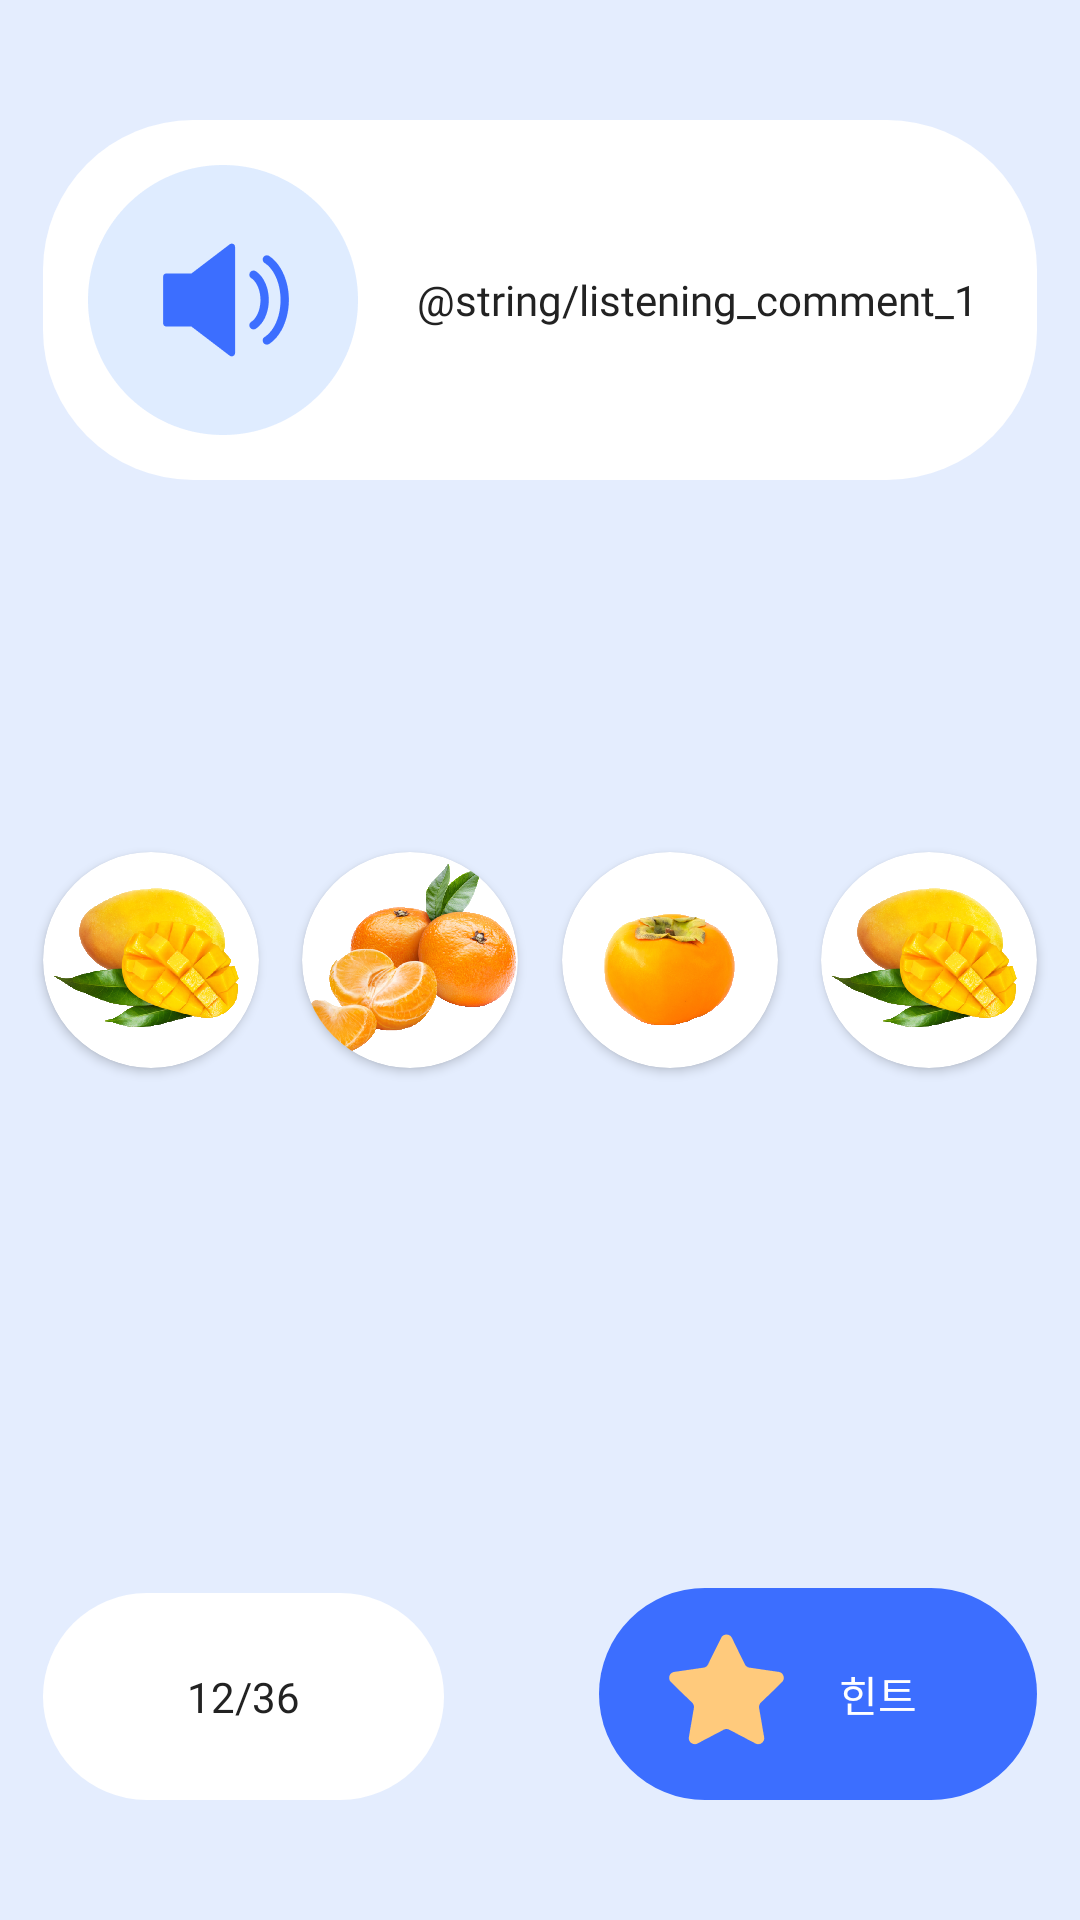

Where to tap for icons on this 1080*1920 app screen, as (x,y):
sound: (223,300)
star: (726,1689)
